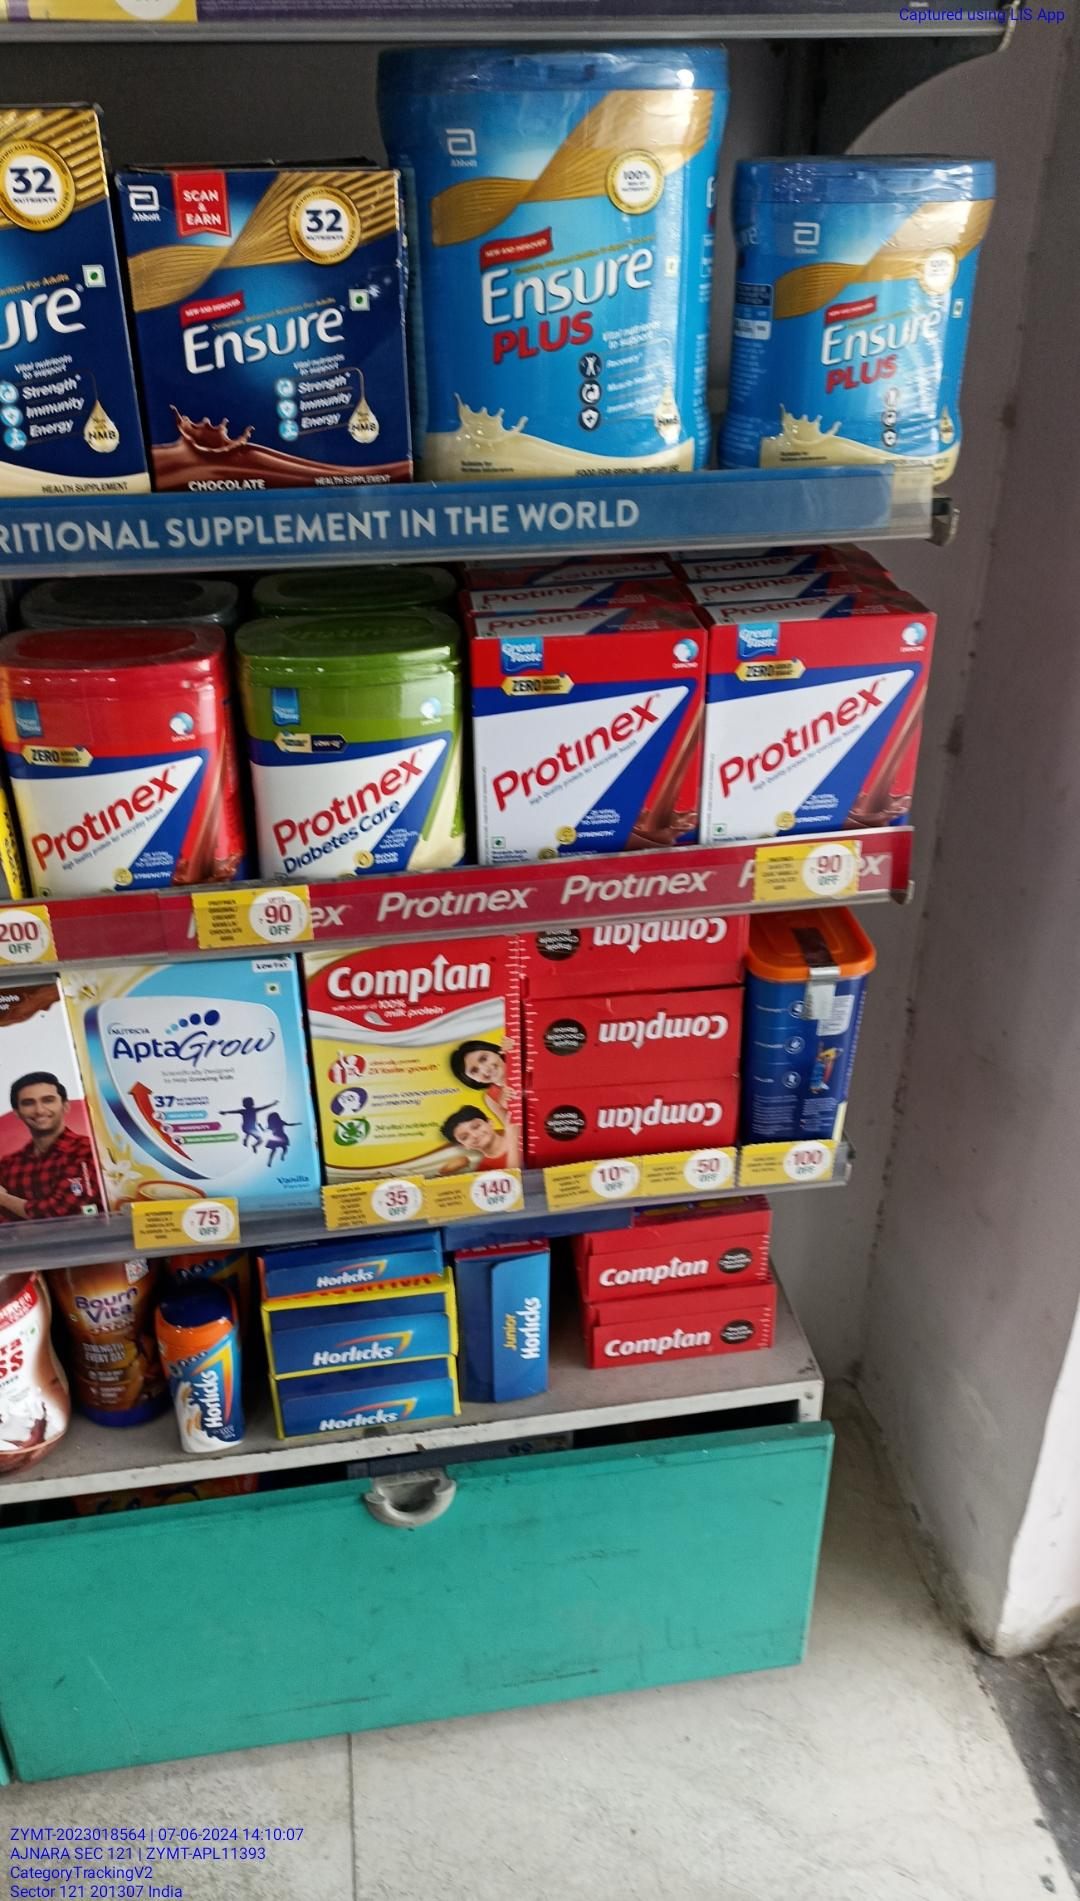BOURN_VITA_FIVE_STAR_MAGIC_500_G_JAR: (67, 1259, 157, 1430)
COMPLAN_KESAR_BADAM_500_GMS_PACK: (311, 937, 517, 1186)
HORLICK_CLASSIC_MALT_200_G_JAR: (161, 1313, 244, 1454)
PROTINEX_CHOCOLATE_400_G_JAR: (0, 646, 225, 901)
